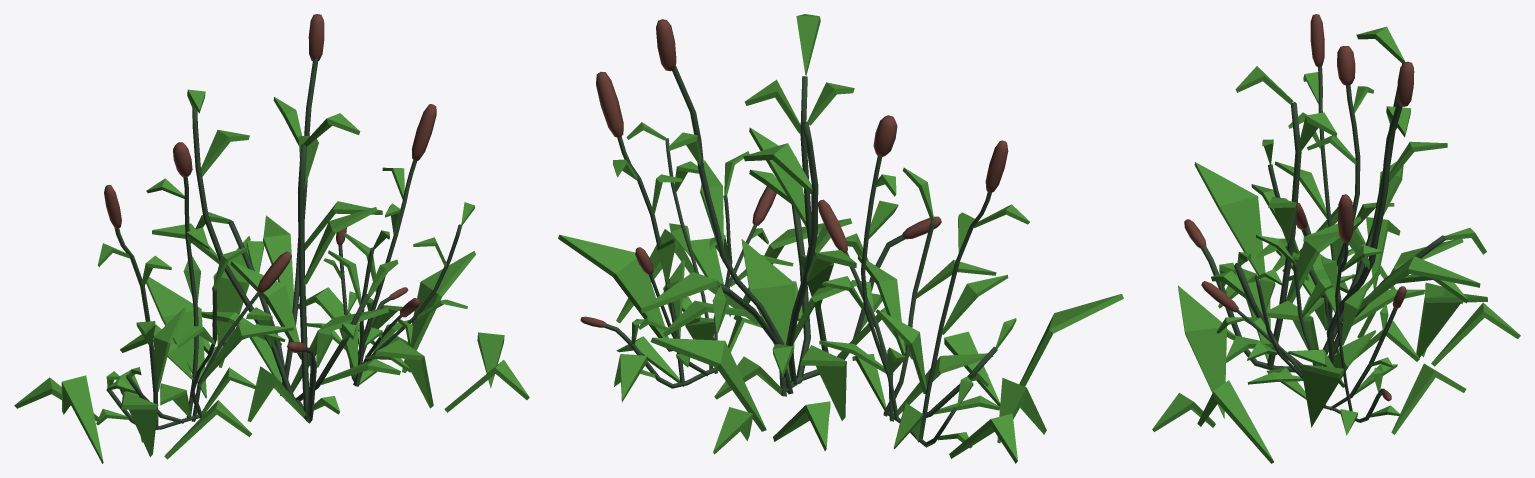
File: watergrass.fbx
3 views of the same model, side by side, from view 1: azimuth 30°, elevation 25°; view 2: azimuth 150°, elevation 25°; view 3: azimuth 270°, elevation 25° (orthographic). The views are drawn at different scales.
Visible parts, largest first — view 1: watergrass_wire, watergrass_base, watergrass_tips; view 2: watergrass_wire, watergrass_base, watergrass_tips; view 3: watergrass_wire, watergrass_base, watergrass_tips.
Part boxes in pixels (x1,y1,x2,y2): watergrass_wire: (96,57,474,442); watergrass_base: (14,236,529,463); watergrass_tips: (104,14,436,352); watergrass_wire: (604,14,1029,448); watergrass_base: (558,218,1123,463); watergrass_tips: (580,19,1008,327); watergrass_wire: (1201,26,1486,435); watergrass_base: (1152,162,1520,463); watergrass_tips: (1184,14,1414,401).
Size of the model in its own units: 134 by 96.39 by 103.
